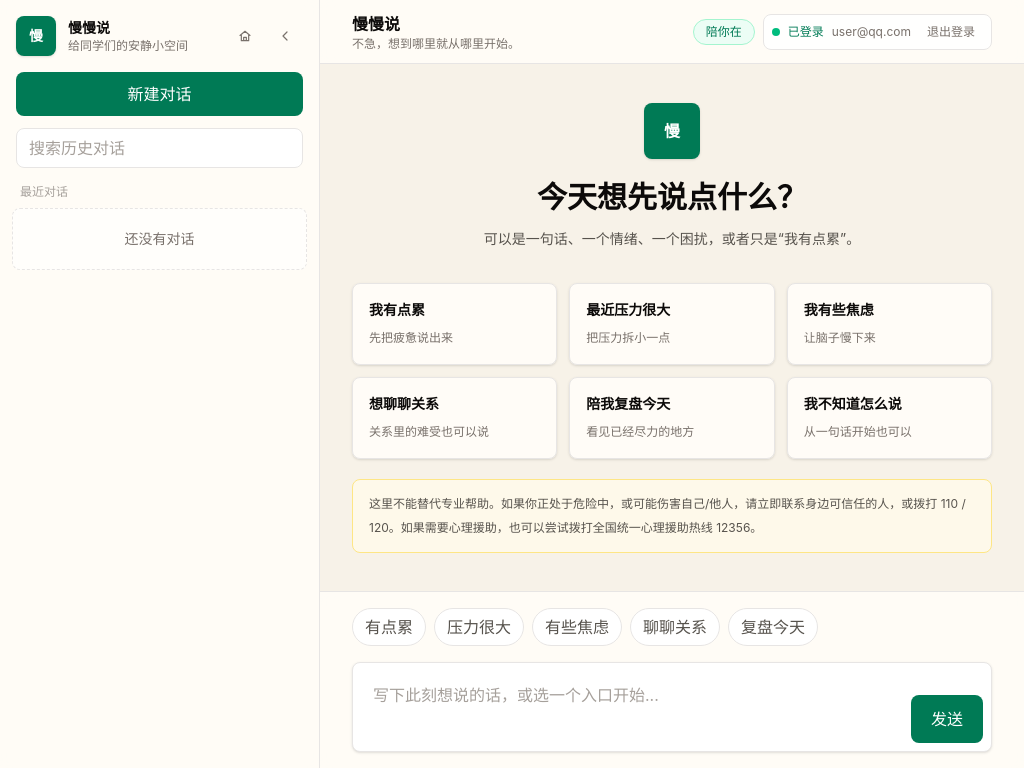
ChatApp › shows the logged-in account on chat pages and returns to auth after logout
Expected: the text "user@qq.com" is shown, [832, 24, 911, 40]
Click the button "退出登录".
click(951, 32)  # box [919, 20, 983, 44]
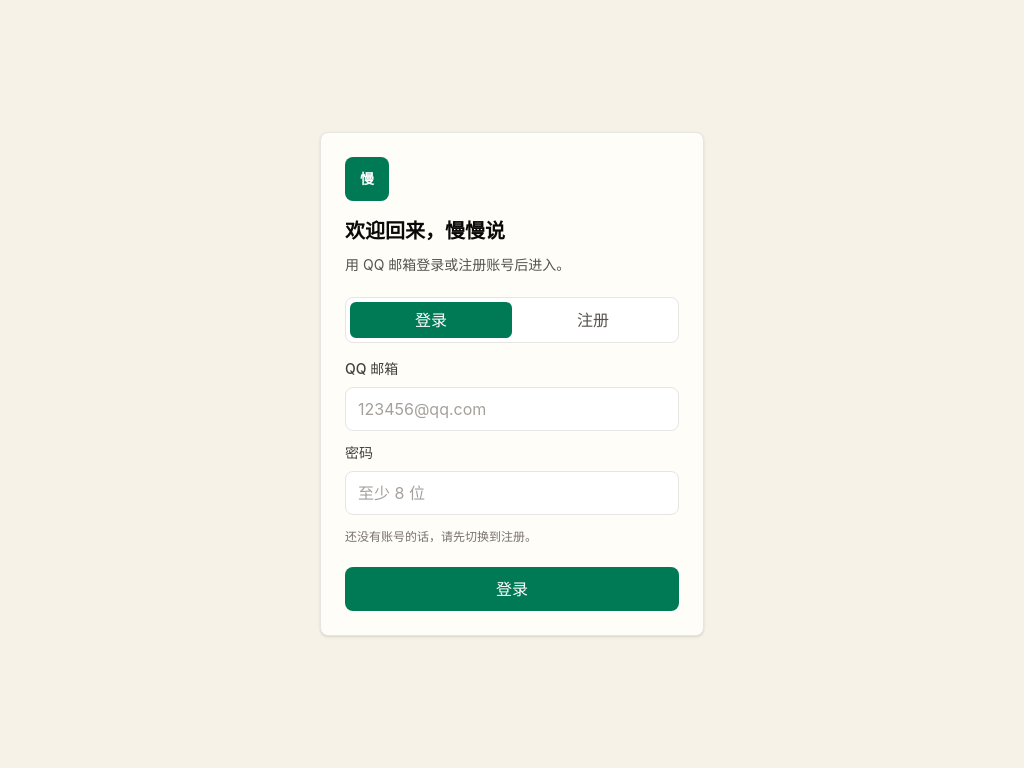
Now the heading "欢迎回来，慢慢说" is shown, box [345, 219, 505, 243]
